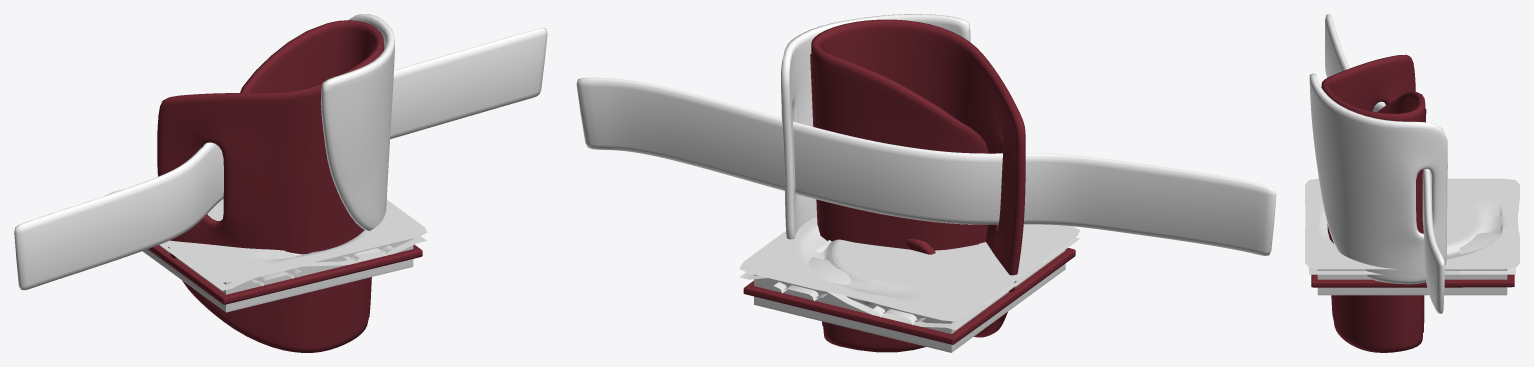
File: Holster3.glb
3 renders of one model, left to right at view 1: azimuth 30°, elevation 25°; view 2: azimuth 150°, elevation 25°; view 3: azimuth 270°, elevation 25°, orthographic. The views are drawn at different scales.
Visible parts, largest first — view 1: Belt, Main, Main_Pattern, Top, Pattern_Border, Pattern_Stitch, Pattern_Weave; view 2: Belt, Main, Pattern_Border, Main_Pattern, Top, Pattern_Stitch, Pattern_Weave; view 3: Top, Pattern_Border, Main, Main_Pattern, Belt, Pattern_Stitch, Pattern_Weave.
Boxes of the visible parts, x1,y1,x2,y2 form: Belt: (14, 27, 547, 290); Main: (157, 20, 384, 352); Main_Pattern: (263, 99, 371, 344); Top: (321, 14, 394, 230); Pattern_Border: (105, 189, 426, 312); Pattern_Stitch: (148, 244, 422, 304); Pattern_Weave: (159, 236, 426, 290); Belt: (576, 77, 1276, 255); Main: (811, 19, 1025, 352); Pattern_Border: (739, 216, 1079, 352); Main_Pattern: (810, 54, 979, 343); Top: (781, 14, 970, 239); Pattern_Stitch: (743, 248, 1075, 344); Pattern_Weave: (739, 237, 1079, 329); Top: (1309, 73, 1447, 284); Pattern_Border: (1305, 178, 1519, 295); Main: (1321, 54, 1425, 352); Main_Pattern: (1327, 108, 1426, 345); Belt: (1325, 14, 1444, 313); Pattern_Stitch: (1311, 274, 1514, 287); Pattern_Weave: (1309, 232, 1515, 274).
Size of the model in its own units: 6.42 by 2.91 by 2.28.
